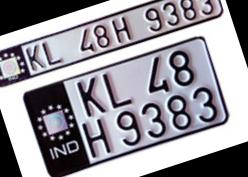plate: (23, 37, 228, 175)
